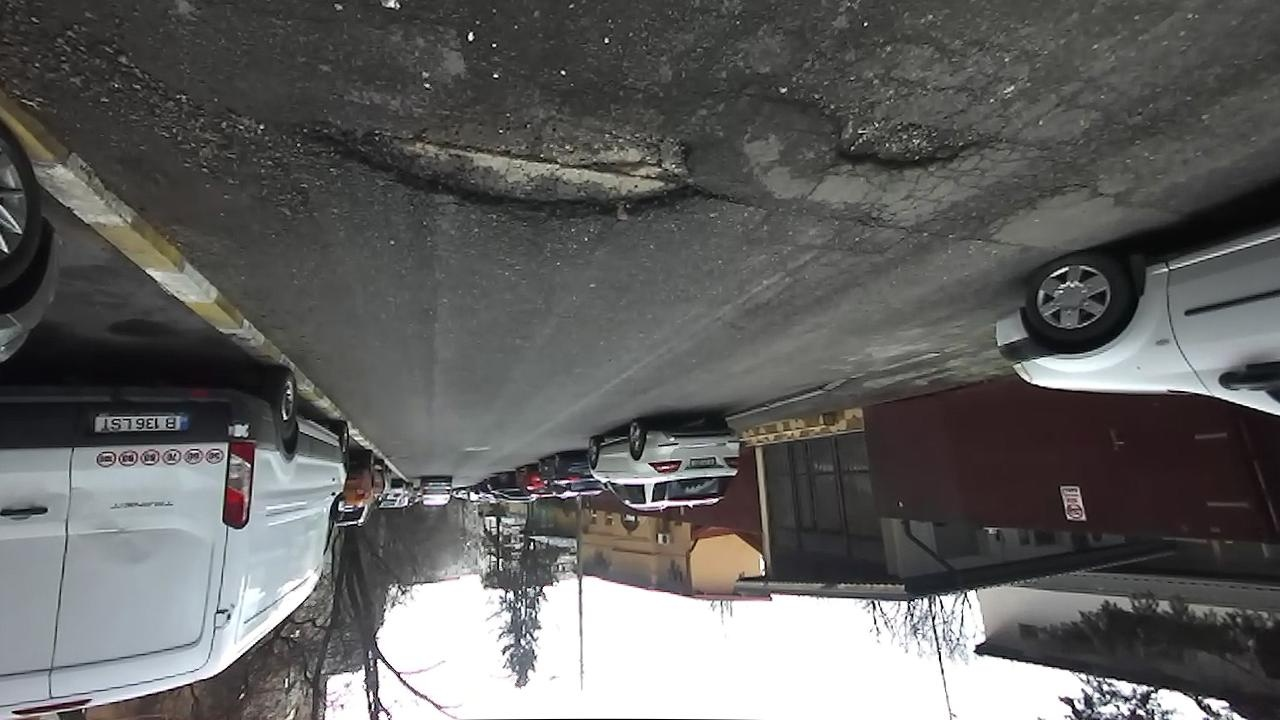pothole: (282, 92, 725, 226), (783, 90, 993, 179)
